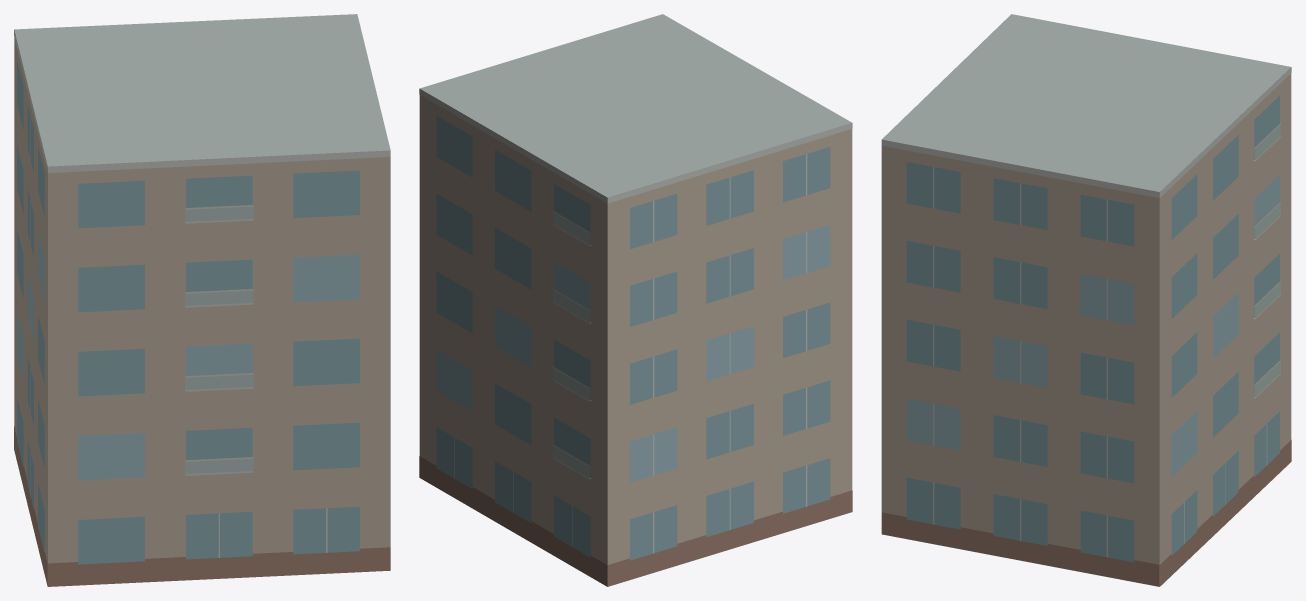
File: survey-upis-32531286.glb
3 renders of one model, left to right at view 1: azimuth 30°, elevation 25°; view 2: azimuth 150°, elevation 25°; view 3: azimuth 270°, elevation 25°, orthographic. The views are drawn at different scales.
Parts seen in each view (by area): view 1: survey-upis-32531286.tmp; view 2: survey-upis-32531286.tmp; view 3: survey-upis-32531286.tmp.
Boxes of the visible parts, box(x1,y1,x2,y2) form: survey-upis-32531286.tmp: box(14, 14, 390, 586); survey-upis-32531286.tmp: box(419, 14, 852, 586); survey-upis-32531286.tmp: box(881, 14, 1291, 586).
Bounding box in the file's own units: 15.3 × 15.8 × 14.87.
